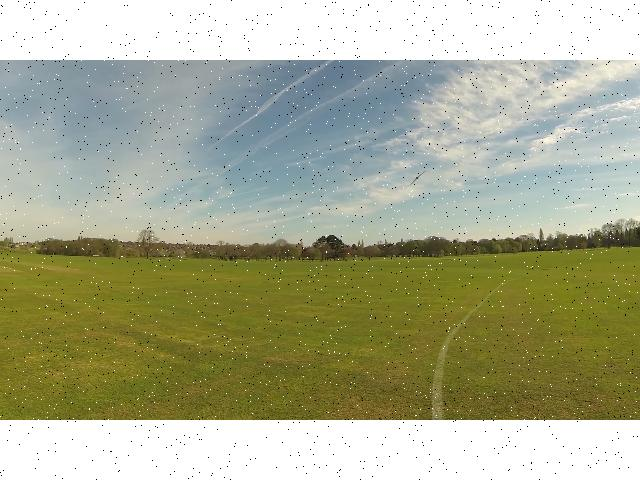Anti-Drone: (394, 165, 442, 189)
